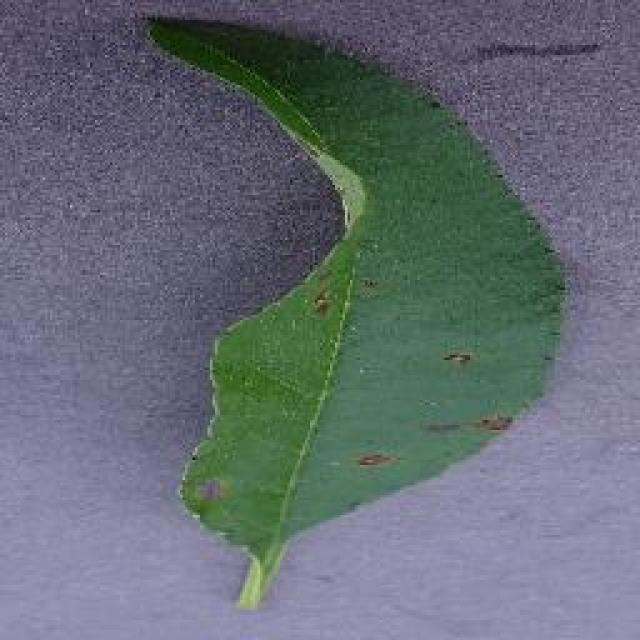Bacterial_spot: (424, 410, 530, 444), (305, 283, 358, 345), (437, 336, 489, 385), (361, 423, 400, 480)
